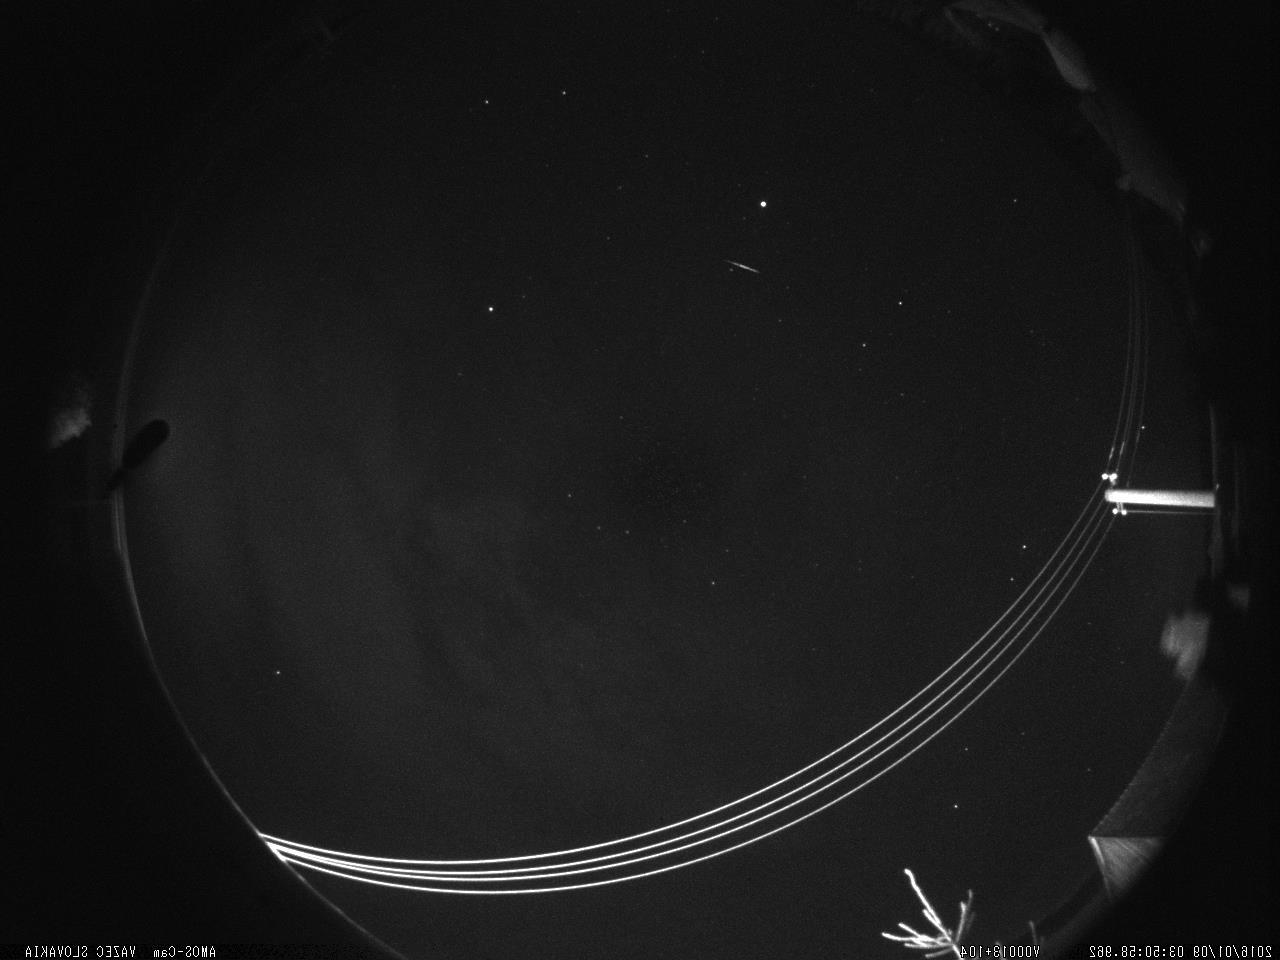meteor: (720, 249, 769, 283)
